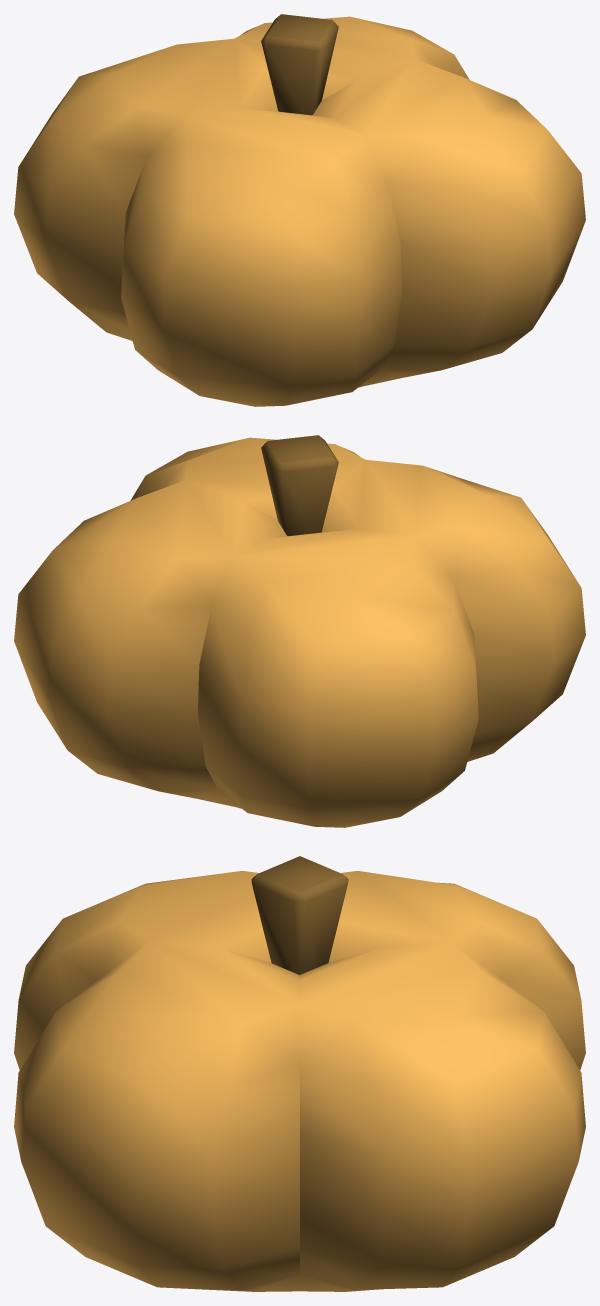
The model's file is plant_pumpkin_2.glb.
3 views of the same model, one above another, from view 1: azimuth 30°, elevation 25°; view 2: azimuth 150°, elevation 25°; view 3: azimuth 270°, elevation 25° (orthographic). The views are drawn at different scales.
Visible parts, largest first — view 1: plant_pumpkin_2; view 2: plant_pumpkin_2; view 3: plant_pumpkin_2.
Part boxes in pixels (<box>): plant_pumpkin_2: <box>14,14,585,406</box>; plant_pumpkin_2: <box>14,435,585,827</box>; plant_pumpkin_2: <box>14,856,585,1291</box>.
Bounding box in the file's own units: 0.9 × 0.6289 × 0.9.
